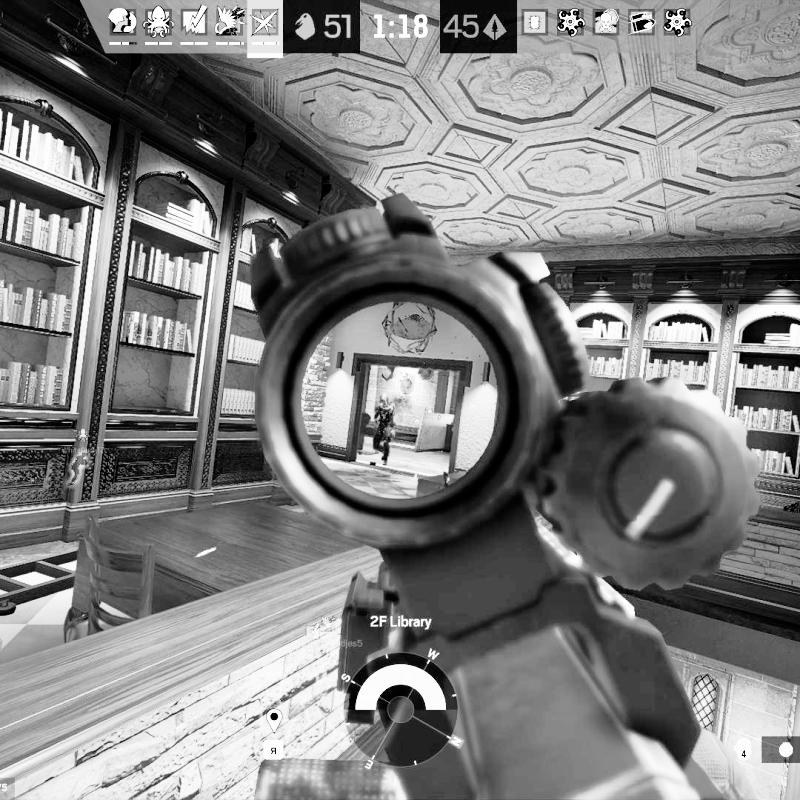Character: (372, 392, 396, 467)
Friend_label: (318, 616, 365, 652), (59, 427, 107, 458), (290, 624, 332, 652)
Head: (378, 392, 390, 406)
